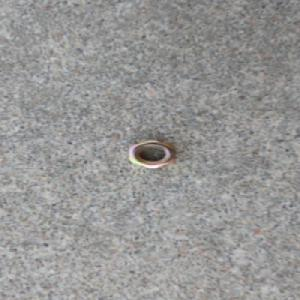Nut: (126, 139, 176, 169)
